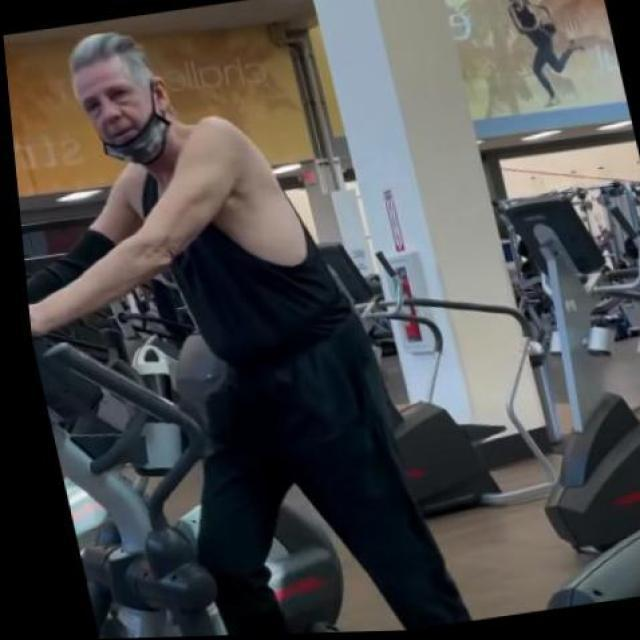hairnet: (76, 74, 176, 170)
